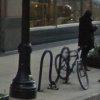Bicycle: (52, 42, 96, 90)
